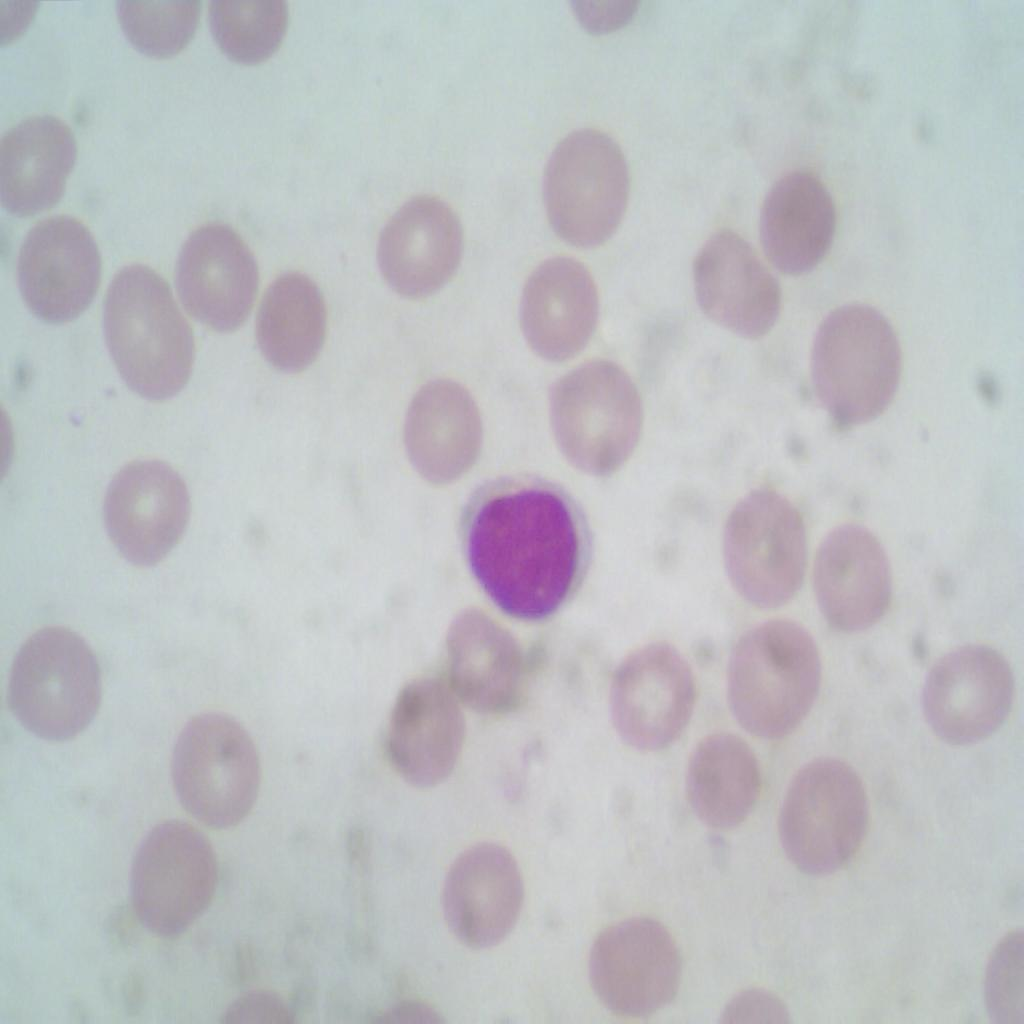Eritrosit: (806, 292, 906, 438), (123, 809, 223, 945), (534, 364, 651, 478), (96, 456, 201, 582), (6, 208, 111, 331), (710, 481, 804, 618), (590, 901, 693, 1023), (718, 622, 826, 738), (918, 637, 1024, 755), (536, 128, 634, 255), (683, 228, 784, 351), (106, 266, 196, 404), (426, 832, 522, 961), (374, 188, 474, 307), (388, 372, 486, 492), (9, 631, 104, 752), (251, 258, 336, 388), (746, 161, 838, 281), (788, 751, 871, 882), (516, 251, 604, 372), (439, 607, 534, 719), (175, 218, 263, 335), (174, 714, 259, 831), (606, 634, 692, 748), (386, 678, 468, 797), (810, 518, 892, 637), (0, 118, 96, 216), (690, 717, 764, 837), (208, 0, 281, 64)
Limfoblast: (456, 481, 589, 622)
